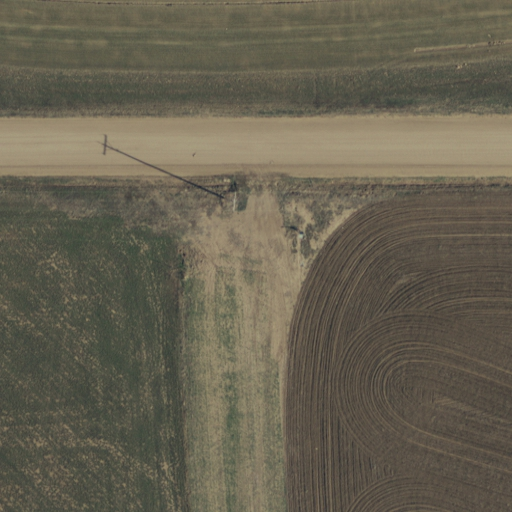DT: (212, 185, 244, 216)
